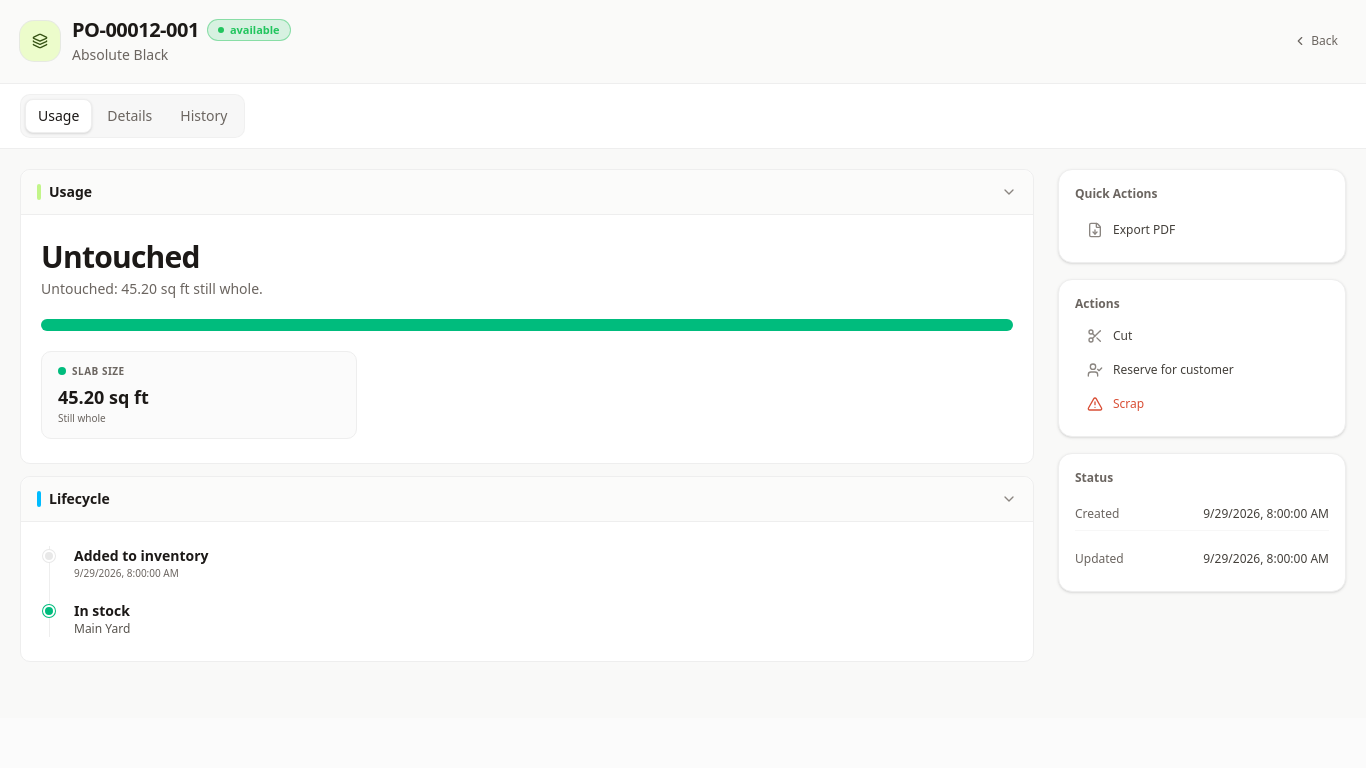
Test: UnitDetailPage › loads the movement history only when its tab is opened
expect the text "Untouched" is shown: met, box x1=41 y1=236 x2=200 y2=277
Click the button "History".
click(204, 116)  # box x1=167 y1=99 x2=240 y2=133
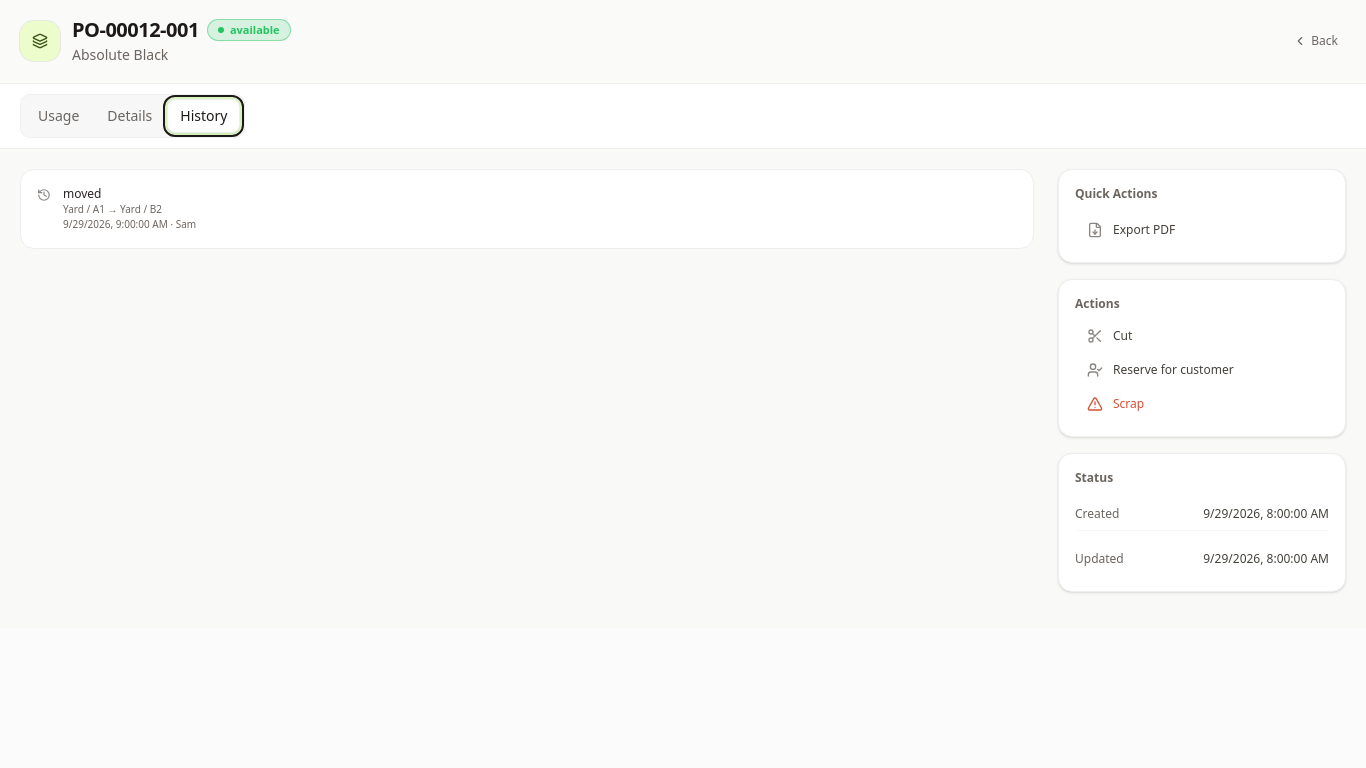
expect the text "Yard / A1 → Yard / B2" is shown: met, box x1=63 y1=202 x2=162 y2=216
